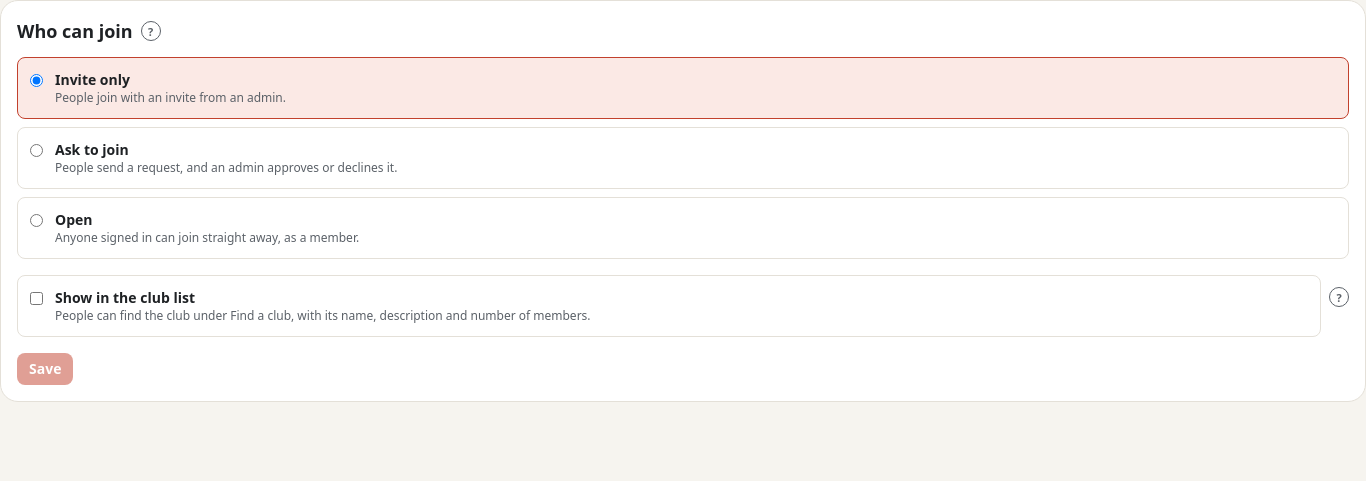
Test: who can join (admins) › starts on the club’s setting and sends only what changed
Expected: the radio button labelled "Invite only People join with an invite from an admin." is checked, x1=30 y1=74 x2=43 y2=87
Expected: the button "Save" is disabled, x1=17 y1=353 x2=73 y2=385
Click the radio button labelled "Ask to join": (36, 150) x1=30 y1=144 x2=43 y2=157
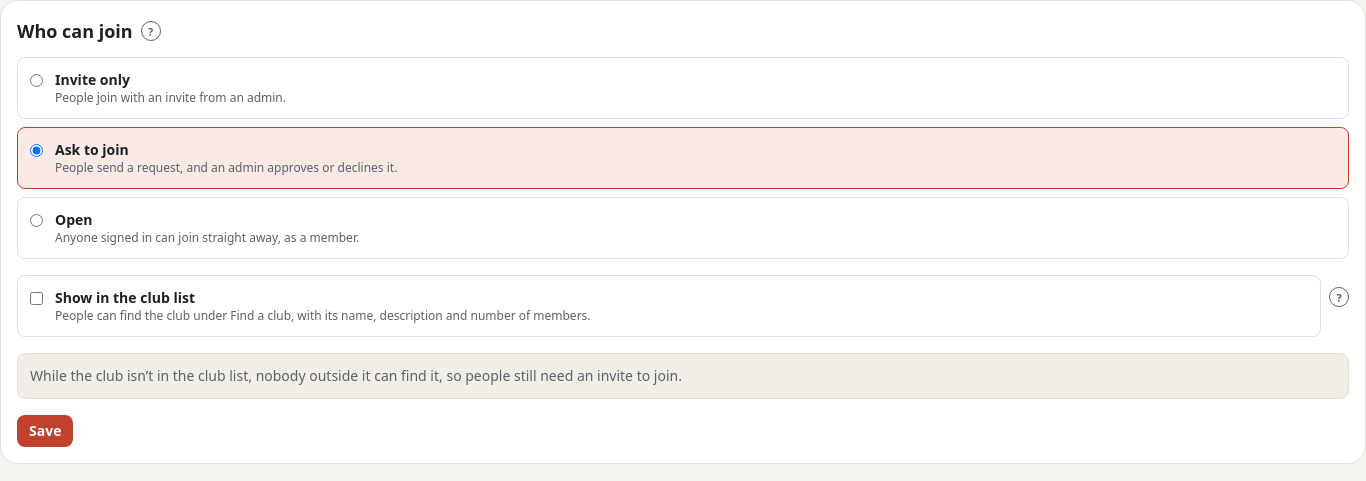
Click the button "Save": (45, 431) x1=17 y1=415 x2=73 y2=447
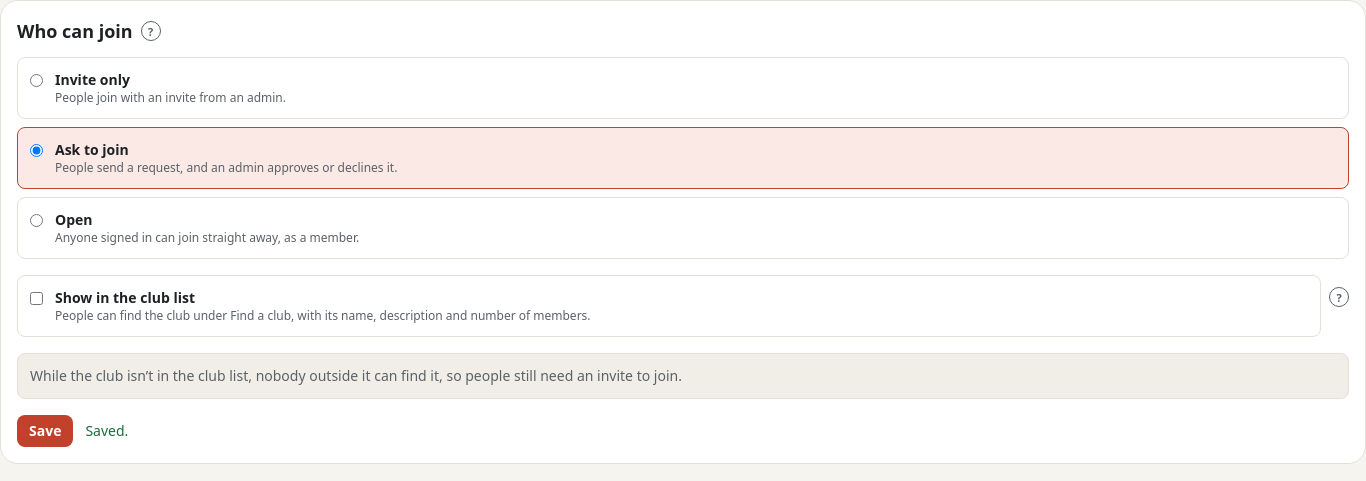
Now the text "Saved." is shown, box x1=85 y1=421 x2=128 y2=441
